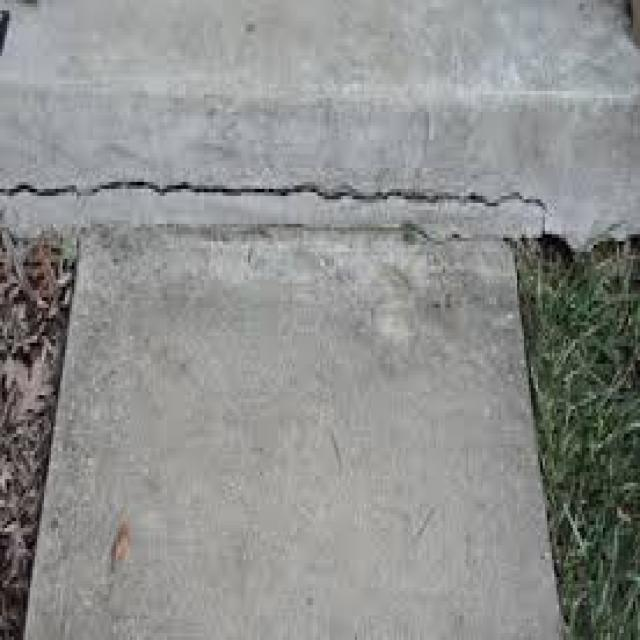Crack: (0, 172, 547, 220)
